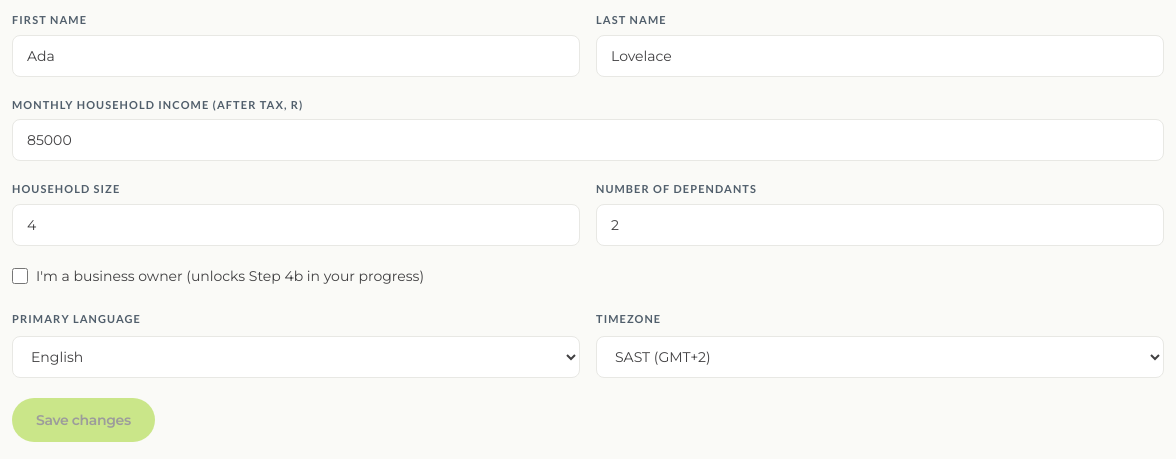
Scenario: ProfileForm › PATCHes on a happy edit and shows the Saved toast
Click the checkbox labelled "I'm a business owner (unlocks Step 4b in your progress)": x=20, y=276 [12,268,28,284]
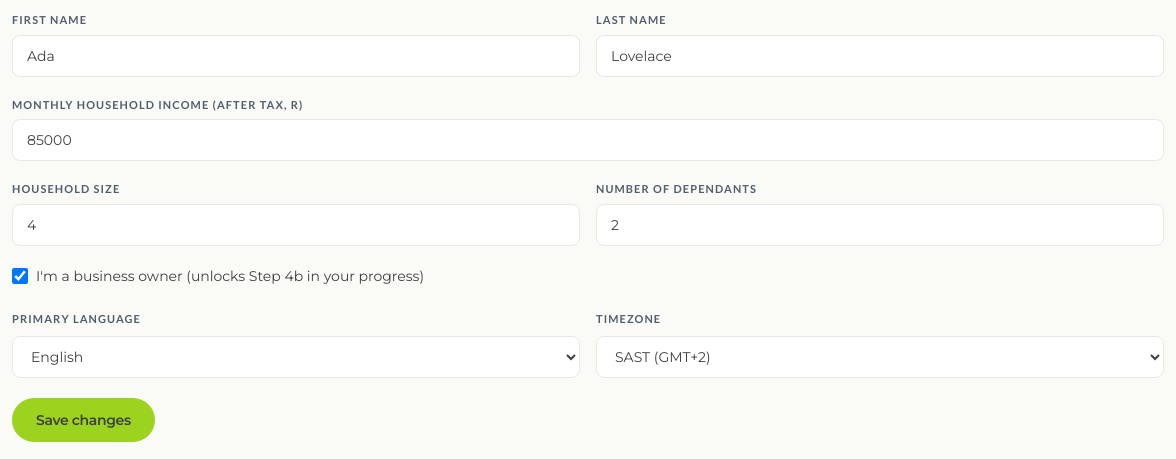
Click the button "Save changes": x=83, y=420 [12,398,155,442]
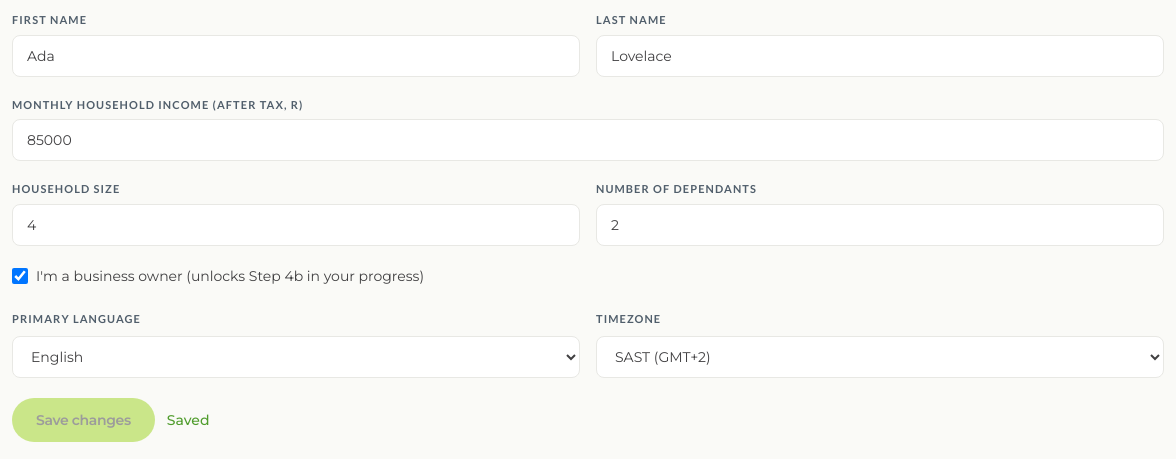
Expected: the message "Saved" is shown, [167,410,210,430]
